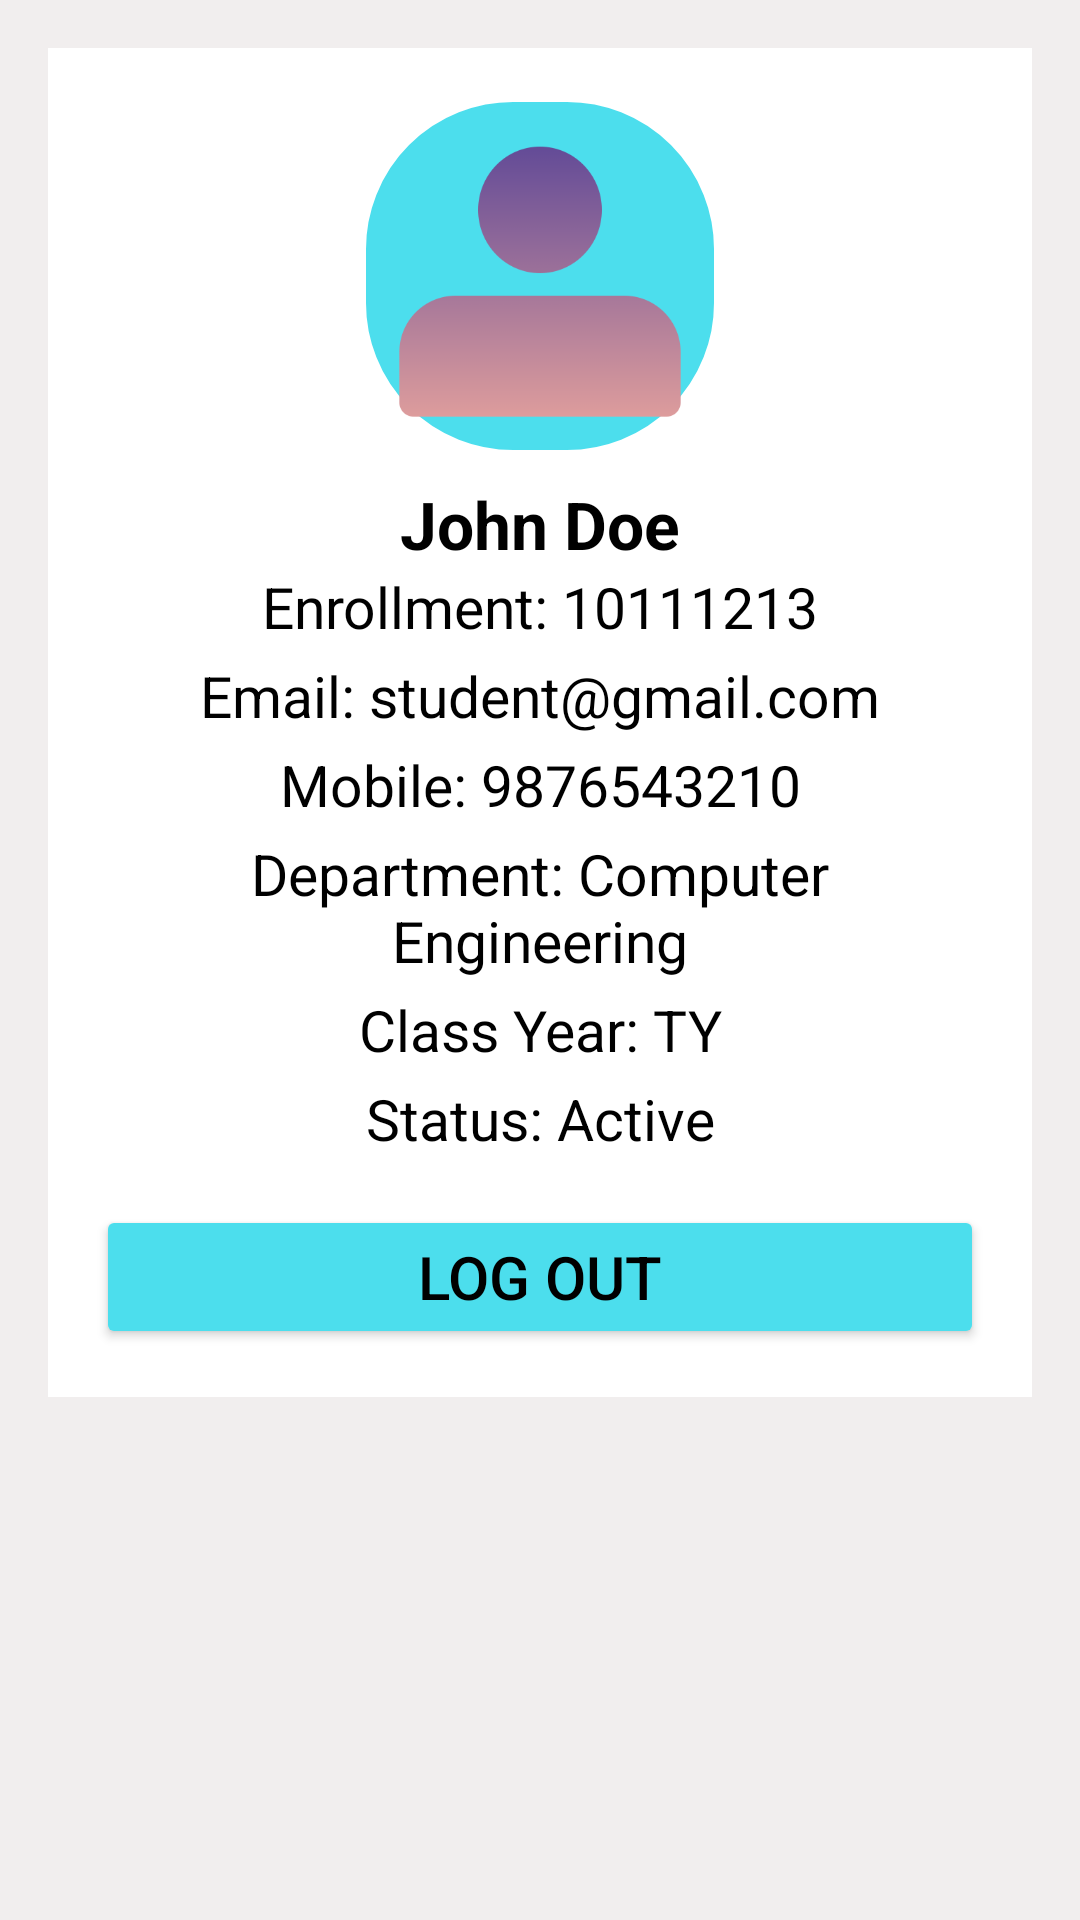

Named icons in this screenshot (1080px×1920px) and their bounding boxes, detection(x1, y1, x2, y2):
profile: detection(366, 102, 714, 450)
